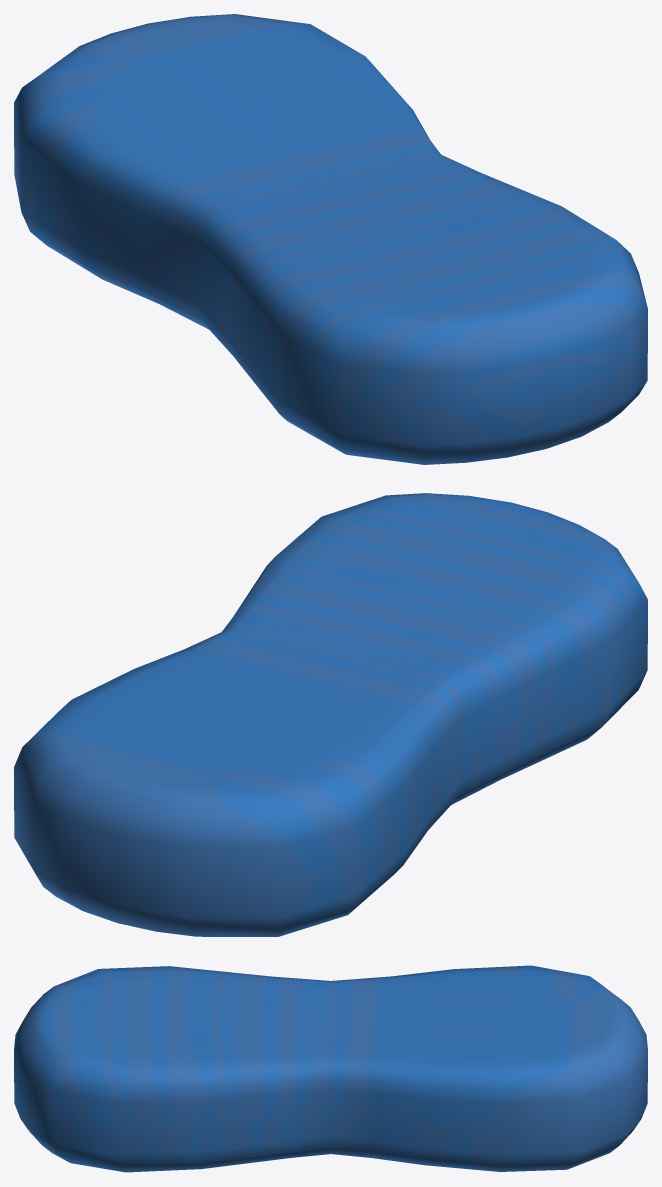
File: Sponge3.fbx
3 renders of one model, top to bottom at view 1: azimuth 30°, elevation 25°; view 2: azimuth 150°, elevation 25°; view 3: azimuth 270°, elevation 25°, orthographic. The views are drawn at different scales.
Visible parts, largest first — view 1: polySurface1; view 2: polySurface1; view 3: polySurface1.
Part boxes in pixels (x1,y1,x2,y2): polySurface1: (14,14,647,464); polySurface1: (14,493,647,936); polySurface1: (14,965,647,1172).
Bounding box in the file's own units: 5.06 × 2.09 × 11.24.
Materials: 1 (1 with a texture image).
